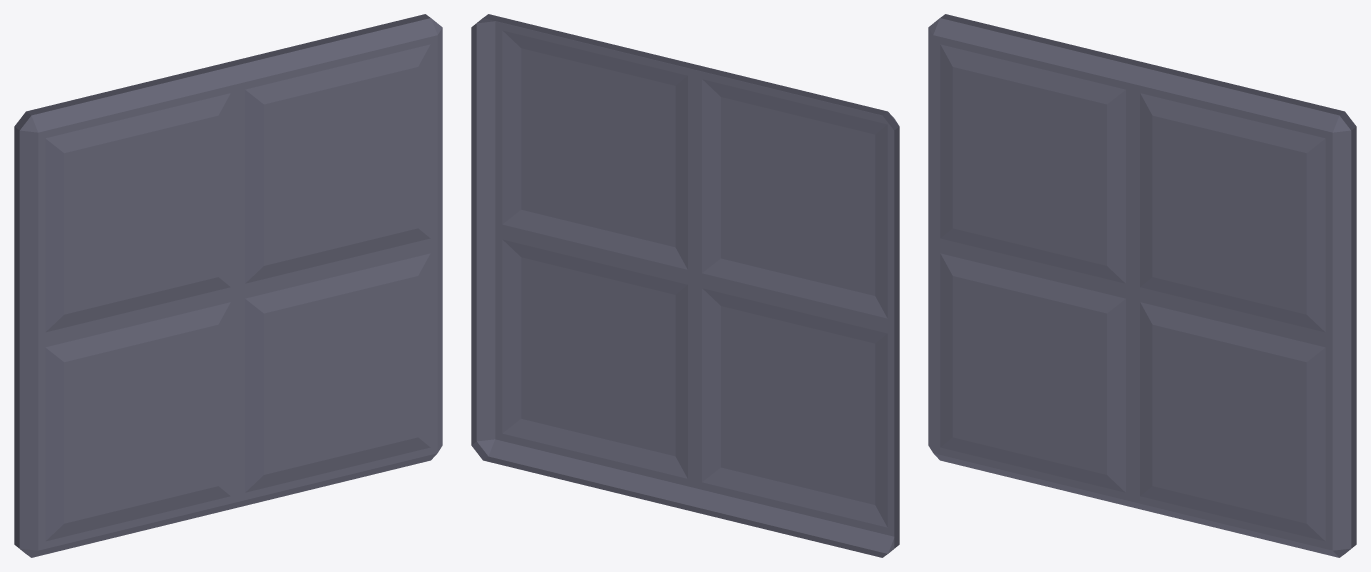
Rendered from tile_wall.glb.
The picture shows the model from 3 angles, left to right: view 1: azimuth 30°, elevation 25°; view 2: azimuth 150°, elevation 25°; view 3: azimuth 330°, elevation 25°; orthographic projection.
Visible parts, largest first — view 1: WallTile; view 2: WallTile; view 3: WallTile.
Boxes of the visible parts, <box> form: WallTile: <box>14,14,442,557</box>; WallTile: <box>471,14,899,557</box>; WallTile: <box>928,14,1356,557</box>.
Size of the model in its own units: 6 by 6 by 0.3803.
1 material, 1 textured.
